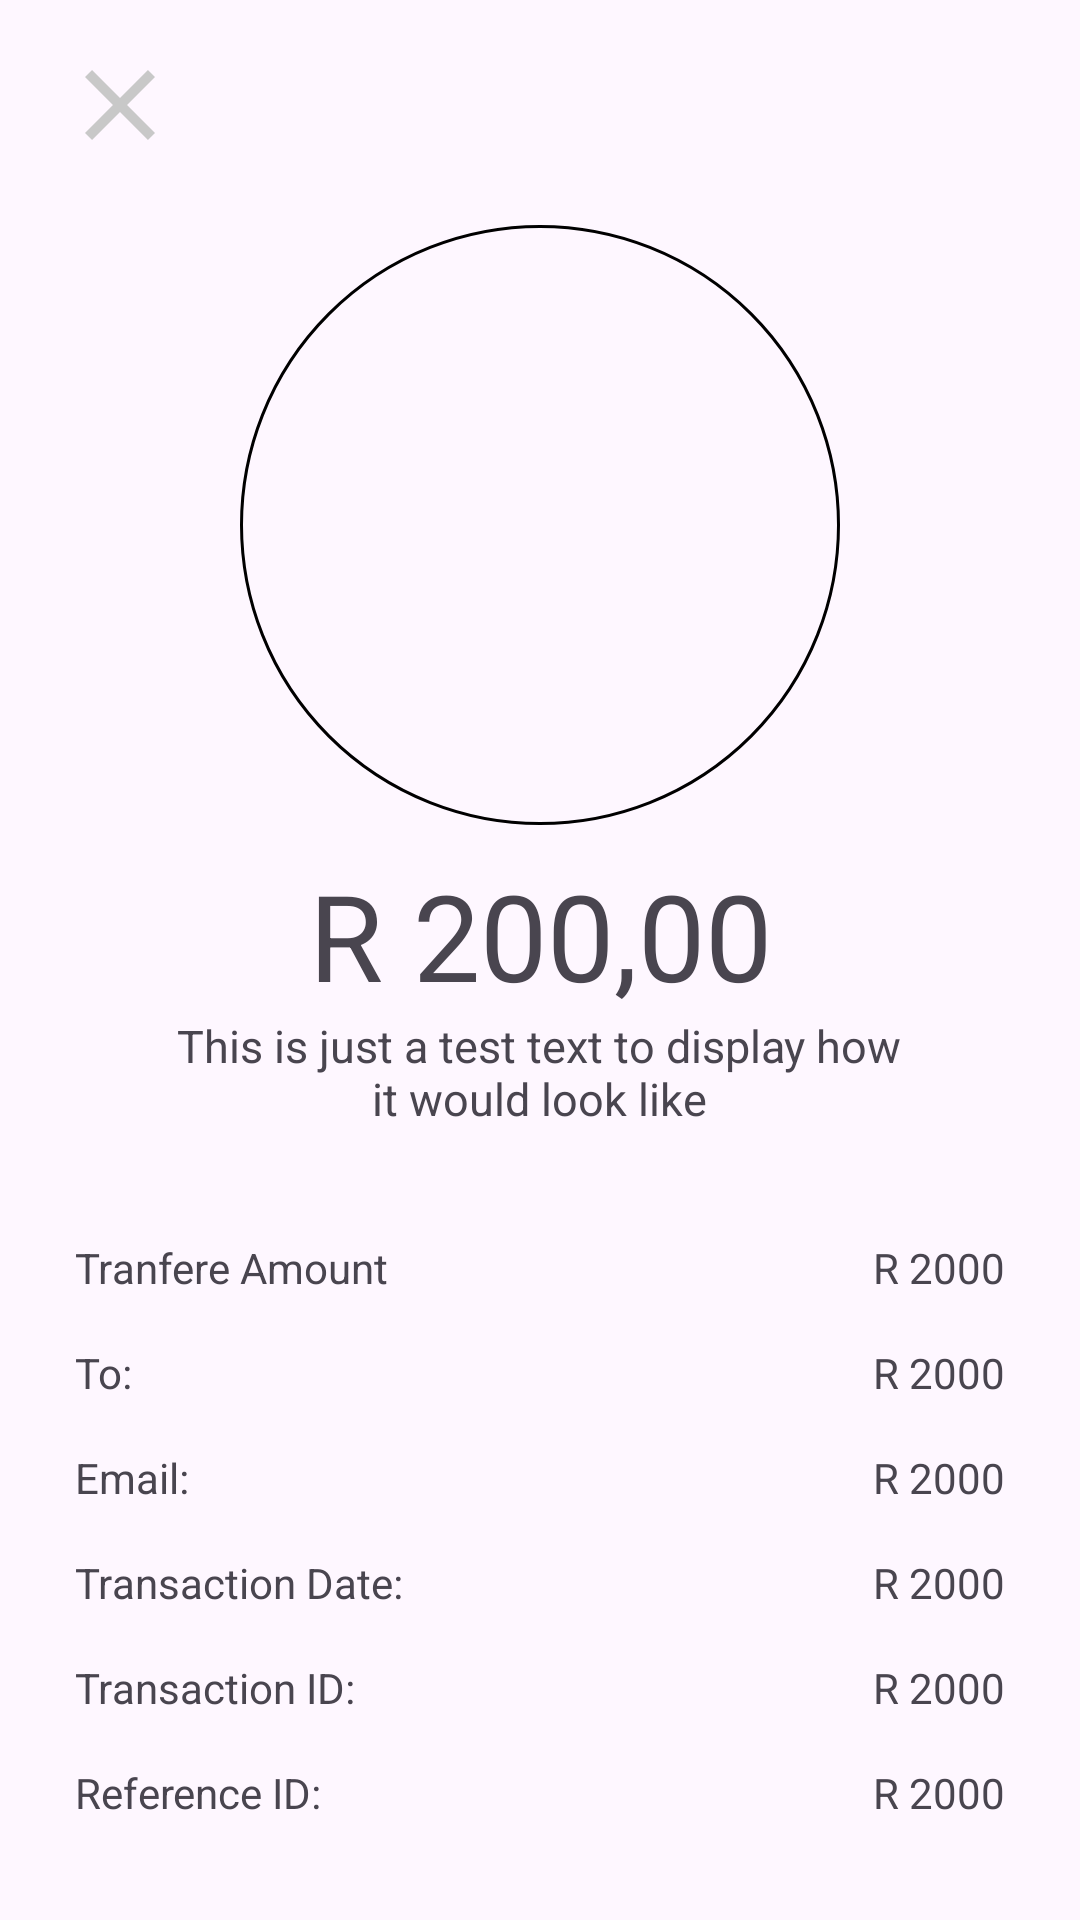

Where icons sit on this 1080 × 1920 app screen, as rect(x1, y1, x2, y2):
close: rect(85, 70, 155, 140)
